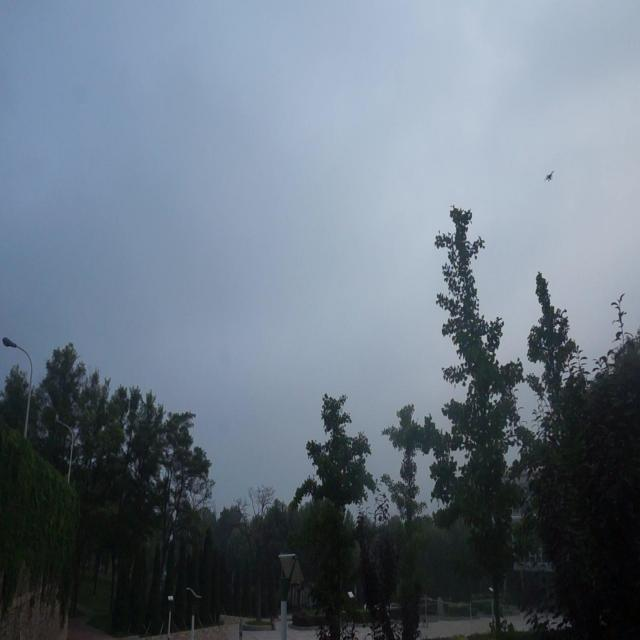UAV: (544, 170, 555, 183)
